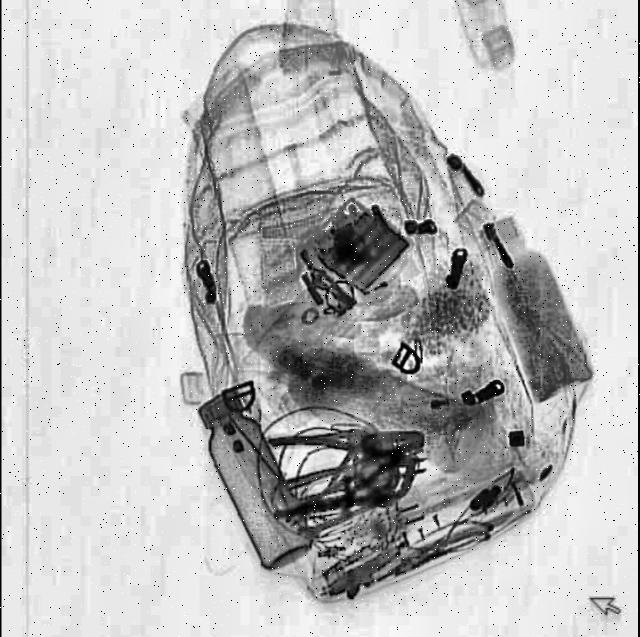Pliers: (267, 425, 428, 516), (267, 411, 423, 490)
